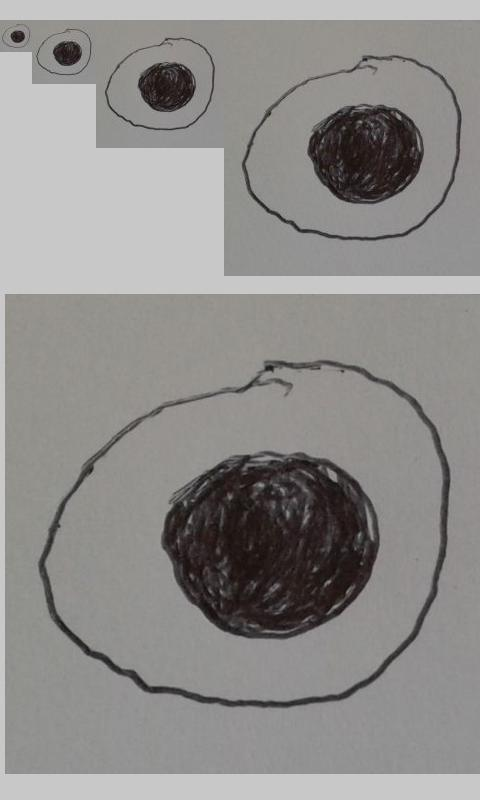radio_button: (36, 355, 453, 712), (238, 51, 464, 245), (104, 36, 217, 131), (35, 27, 92, 76), (1, 23, 31, 49)
